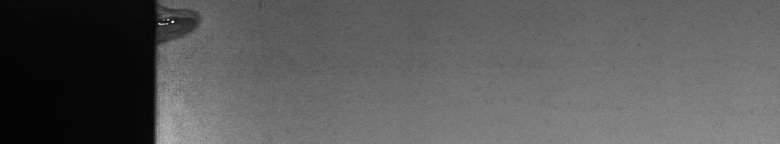hb: (168, 4, 208, 48)
